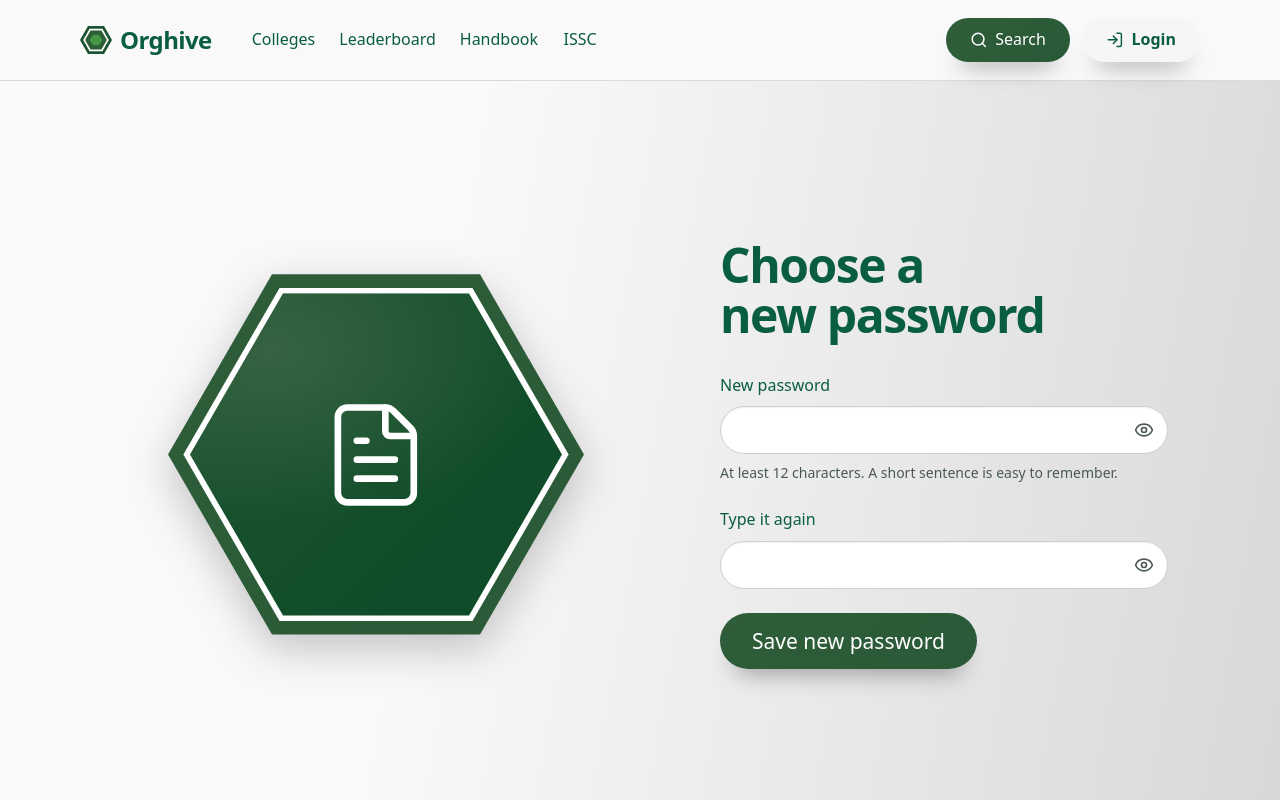
Test case: /reset-password › takes the token from the fragment and removes it from the address bar
Type "a brand new passphrase" into the password field labelled "New password" at (944, 430), box [720,406,1168,454]
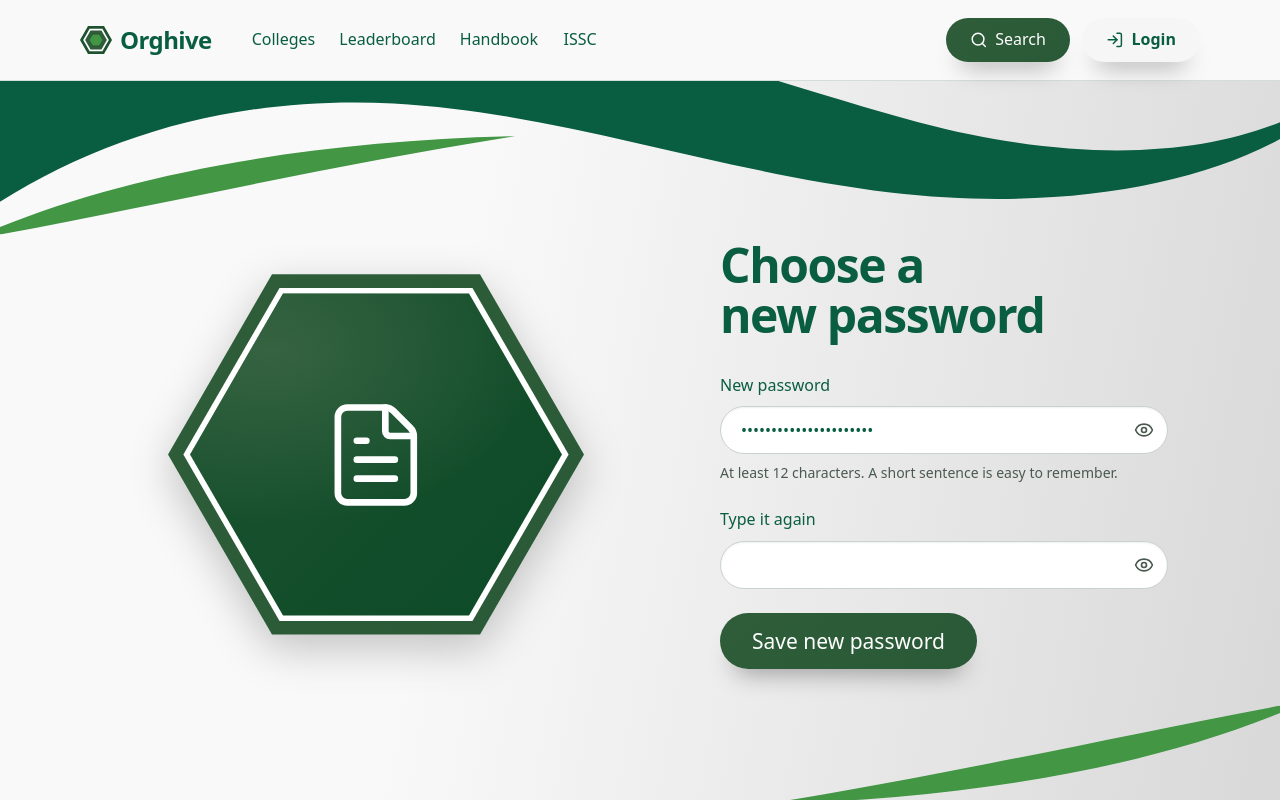
Type "a brand new passphrase" into the password field labelled "Type it again" at (944, 565), box [720,541,1168,589]
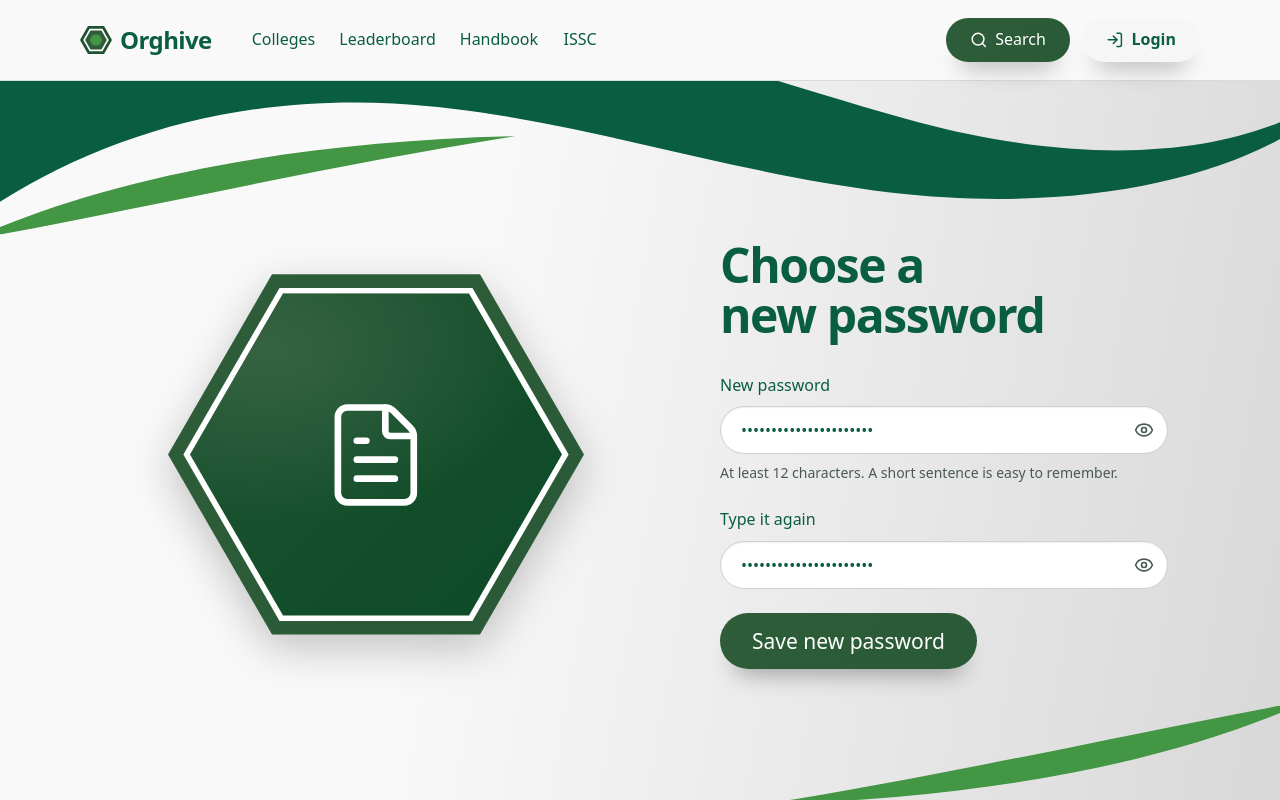
Click the button "Save new password" at (848, 641), box [720,613,977,669]
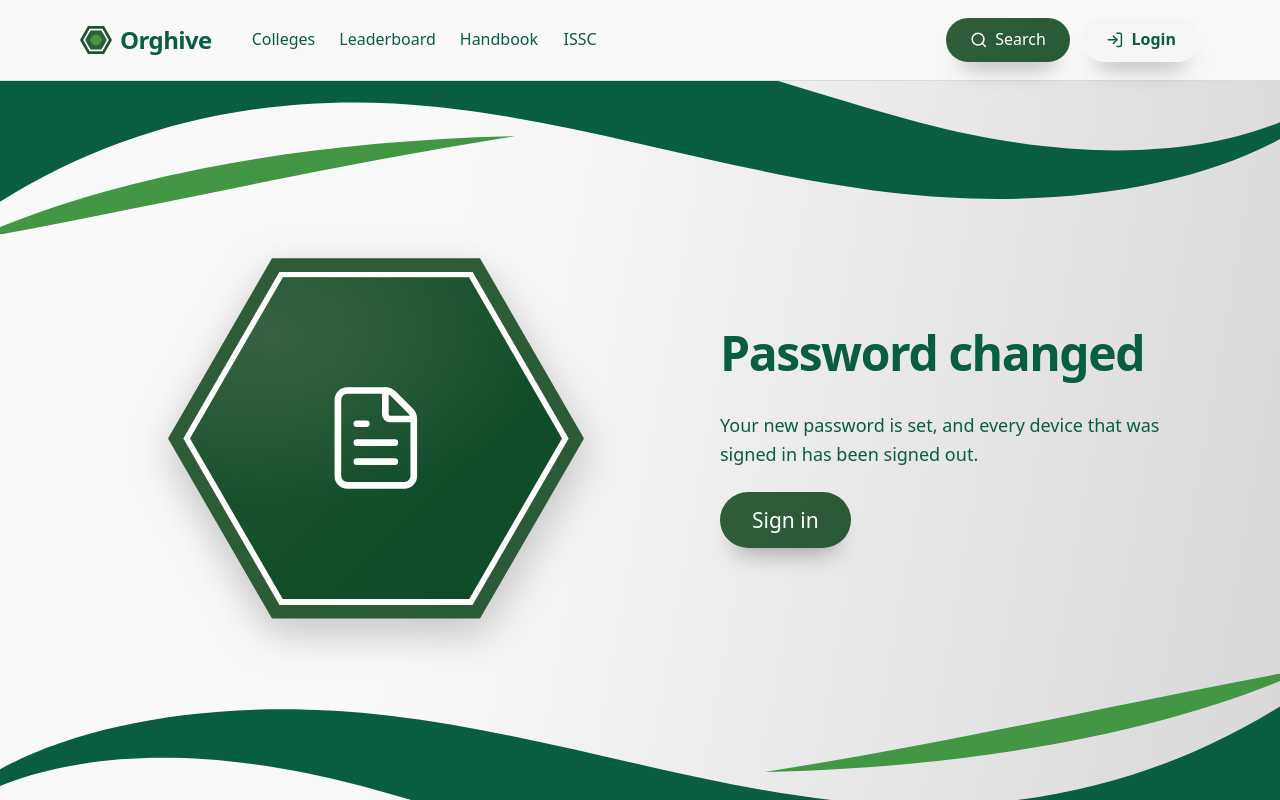
Now the heading "Password changed" is shown, box [720,328,1168,379]
